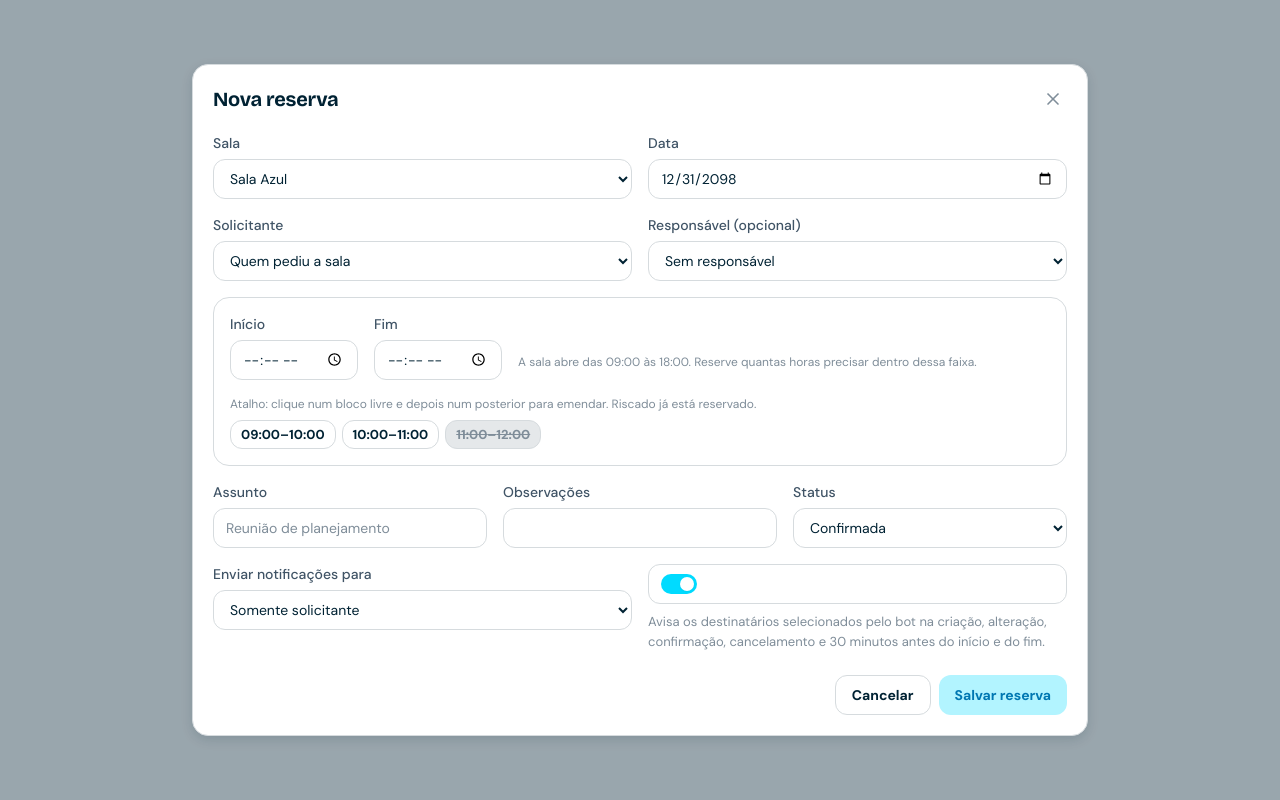
Test: ReservaDialog › emenda blocos seguidos ao clicar num posterior
Click the button "09:00–10:00" at (283, 435), box [230, 420, 336, 449]
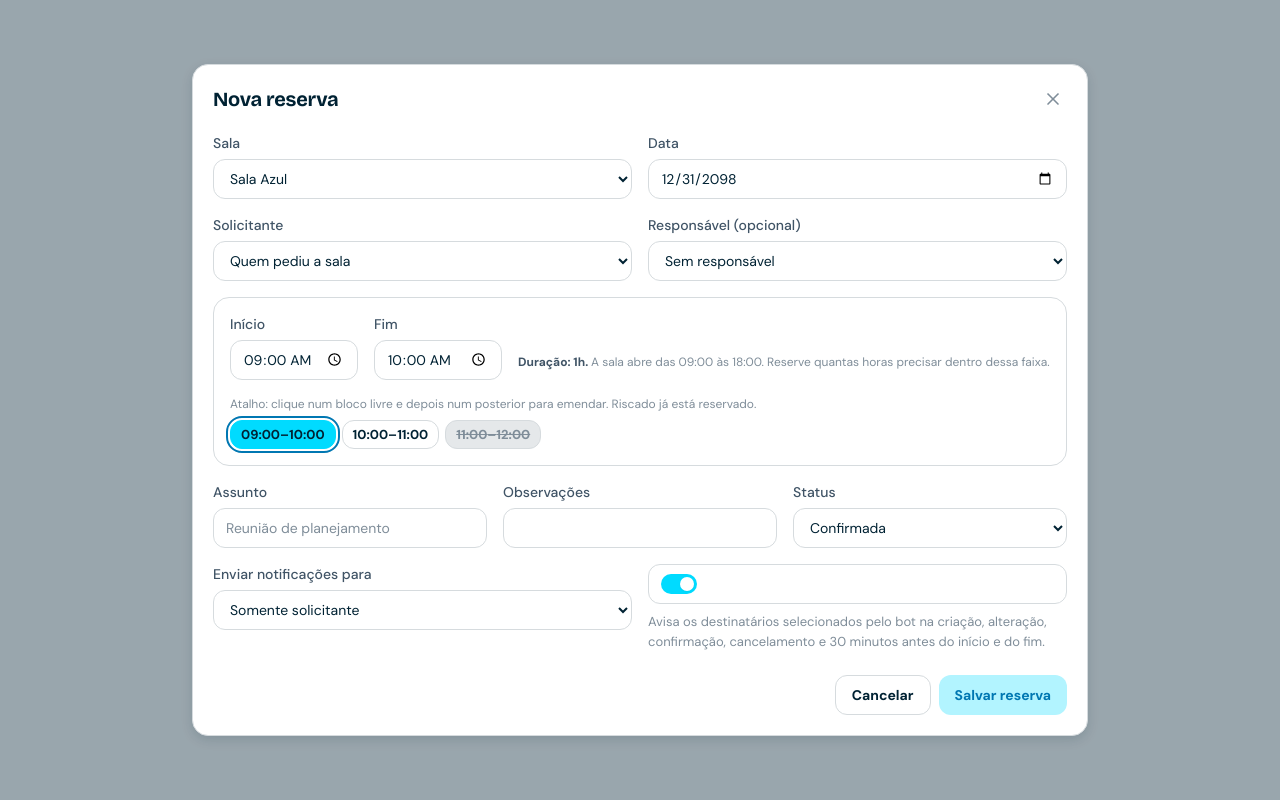
Click the button "10:00–11:00" at (390, 435), box [342, 420, 439, 449]
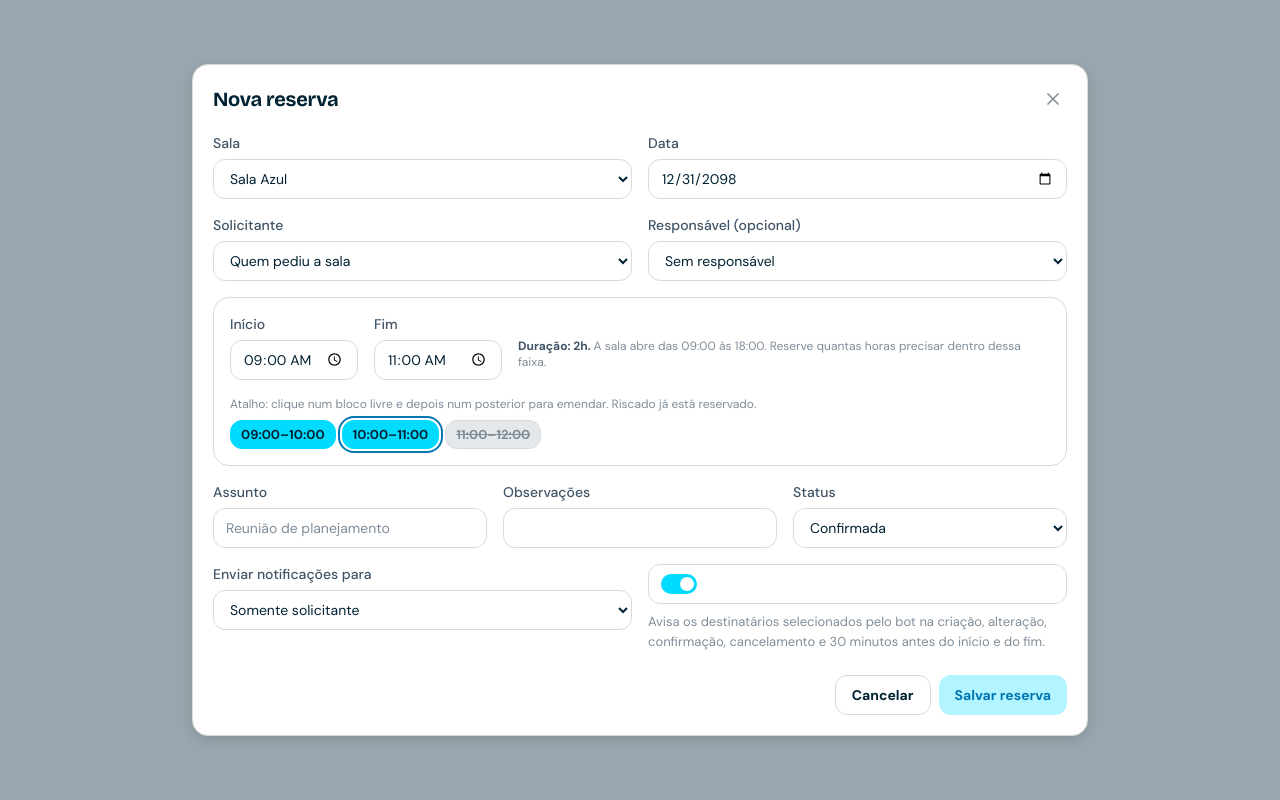
Expected: the time field labelled "Início" holds "09:00", [230, 340, 358, 380]
Expected: the time field labelled "Fim" holds "11:00", [374, 340, 502, 380]
